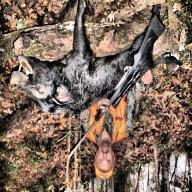boar: (0, 0, 191, 131)
